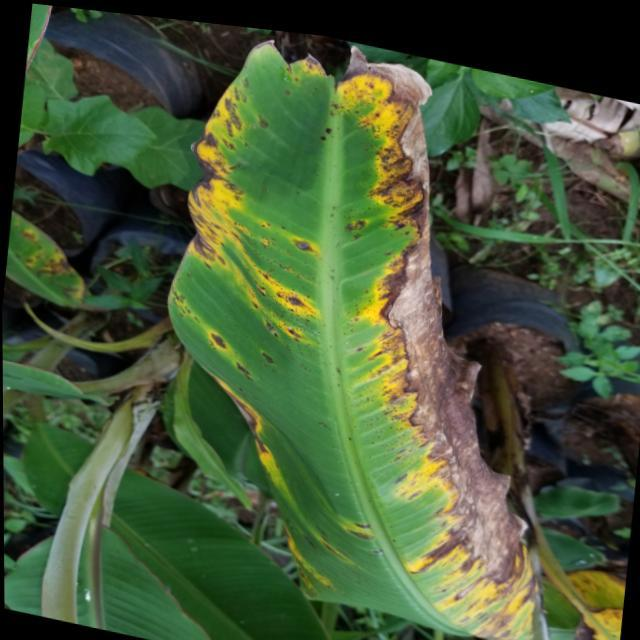Early_rust: (156, 28, 557, 636), (0, 183, 118, 316), (541, 524, 630, 640)
